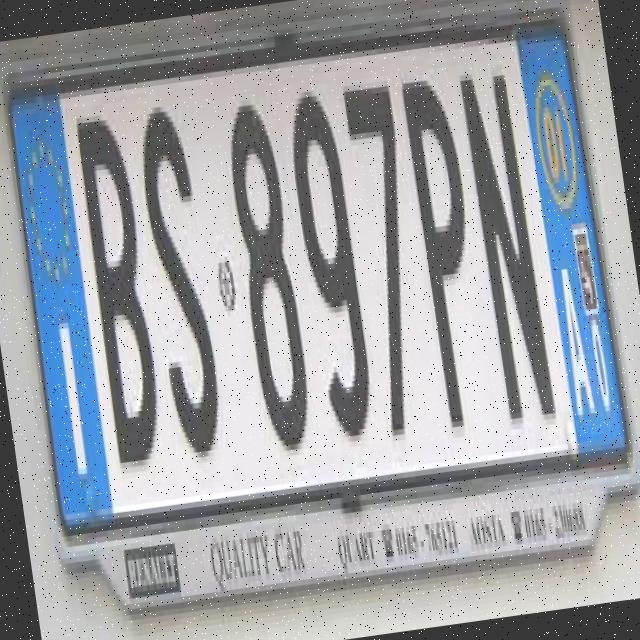EU: (0, 0, 640, 621)
Italie: (2, 90, 118, 528)
